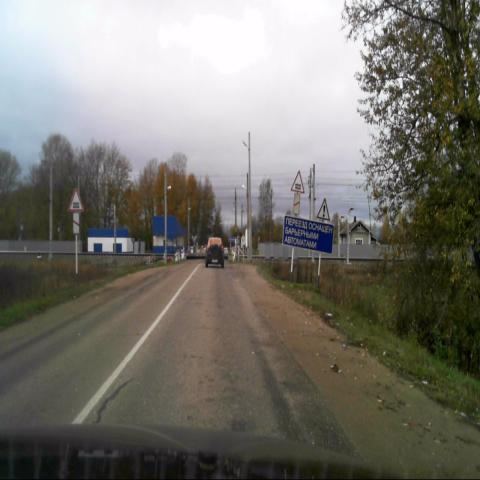1_1: (68, 188, 84, 212), (290, 170, 304, 193)
1_33: (316, 197, 330, 220)
